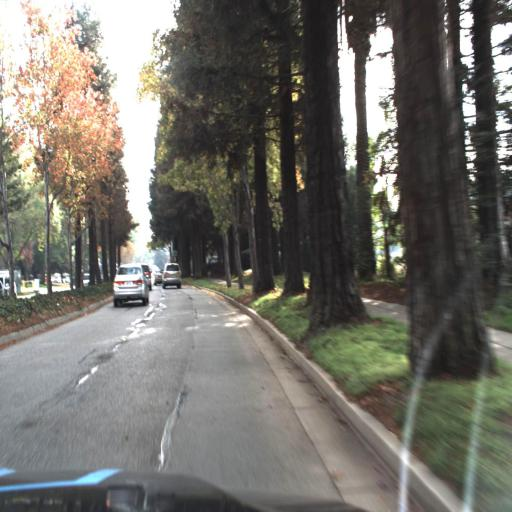car: (109, 261, 148, 304), (159, 260, 181, 294), (155, 259, 166, 286)
